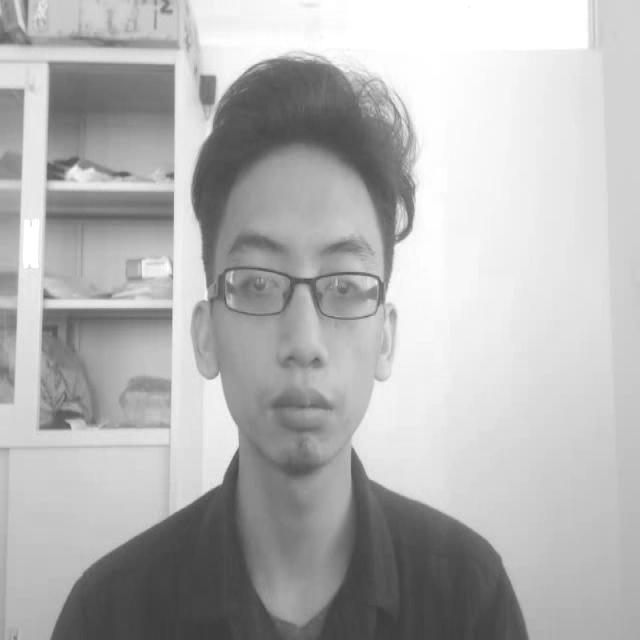real: (190, 47, 425, 498)
